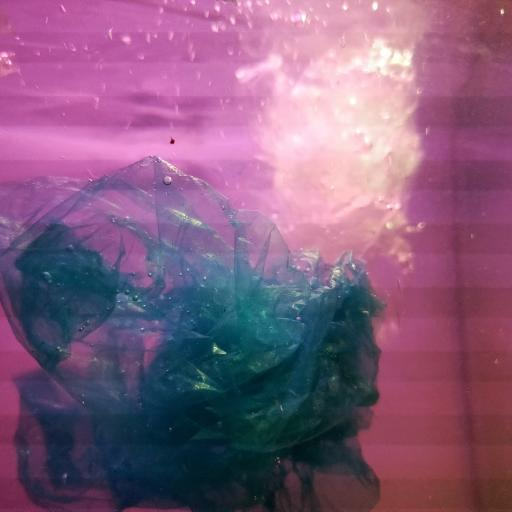plastic_bag: (0, 153, 384, 512), (236, 42, 428, 350)
